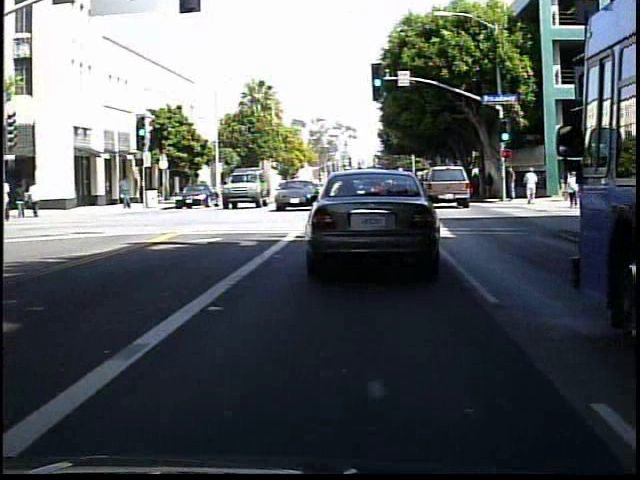person: (502, 162, 521, 207), (522, 165, 540, 207), (29, 180, 46, 220), (116, 175, 134, 212), (17, 182, 30, 219), (471, 172, 484, 202), (483, 169, 495, 201)
